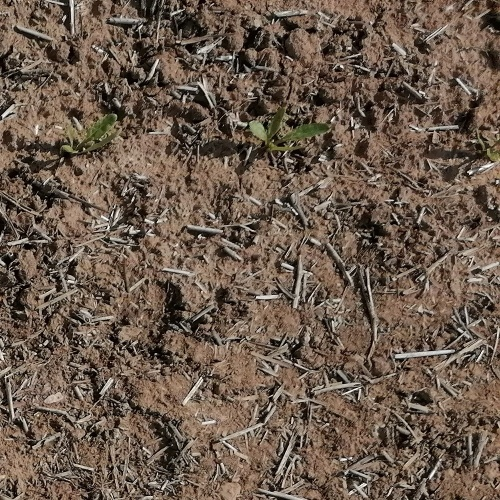beet: (247, 108, 331, 151), (58, 116, 120, 157)
